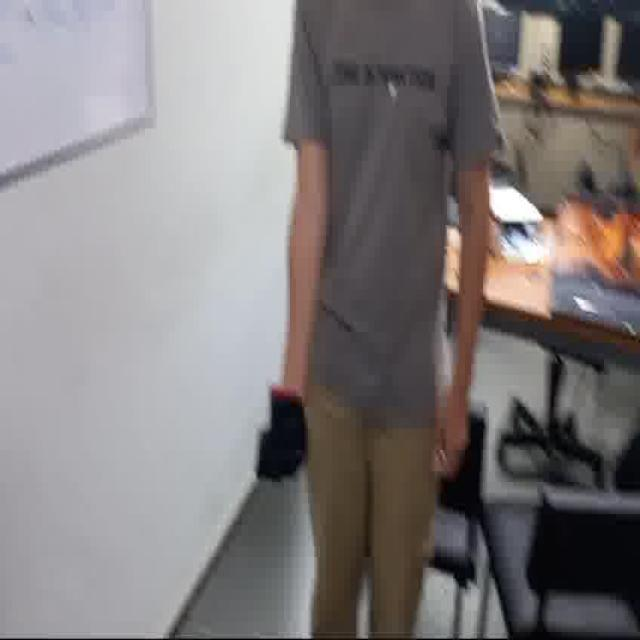Gloves: (250, 384, 307, 488)
